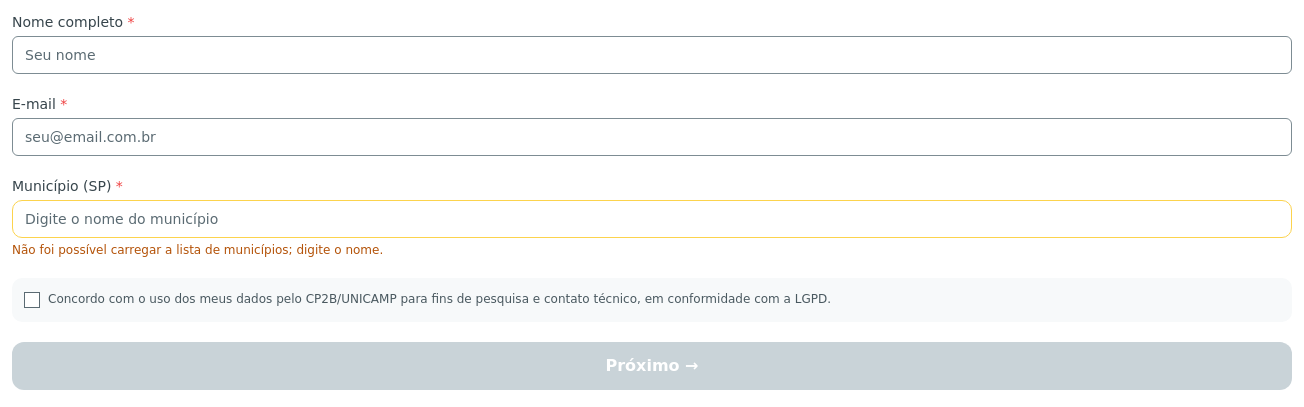
Scenario: StepIdentificacao › accepts a typed name when the municipality list cannot be loaded
Expected: the text "Não foi possível carregar a lista de municípios" is shown, [12,243,383,257]
Type "Ana Souza" into the field labelled "Nome completo *".
click(652, 55); type("Ana Souza")  # box [12,36,1292,74]
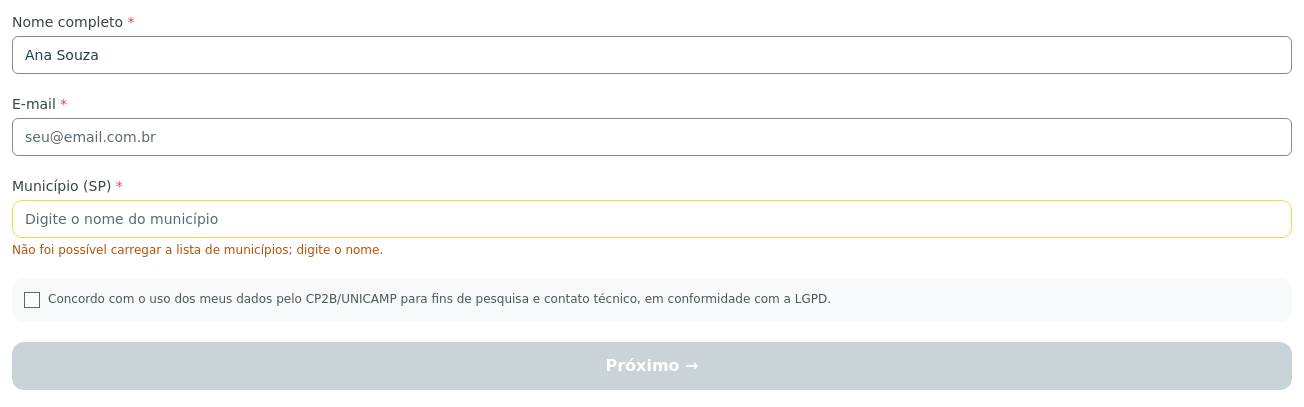
Type "ana@unicamp.br" into the field labelled "E-mail *".
click(652, 137); type("ana@unicamp.br")  # box [12,118,1292,156]
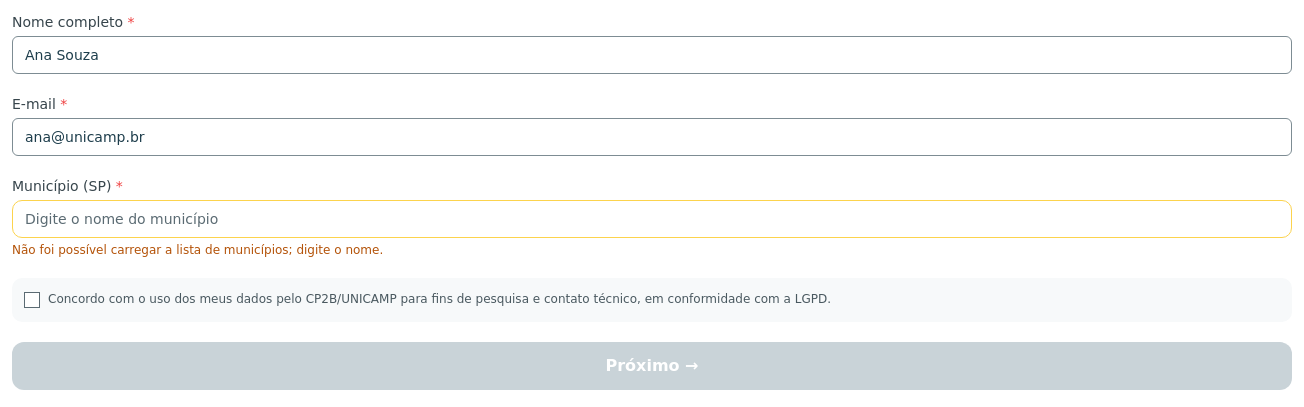
Click the checkbox.
click(32, 300)  # box [24,292,40,308]
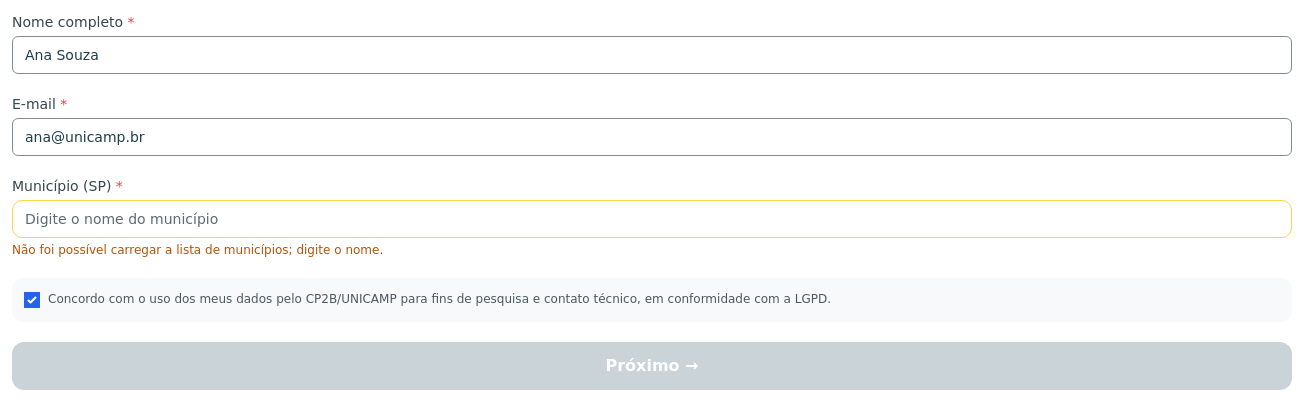
Type "Campinas" into the field labelled "Município (SP) *".
click(652, 219); type("Campinas")  # box [12,200,1292,238]
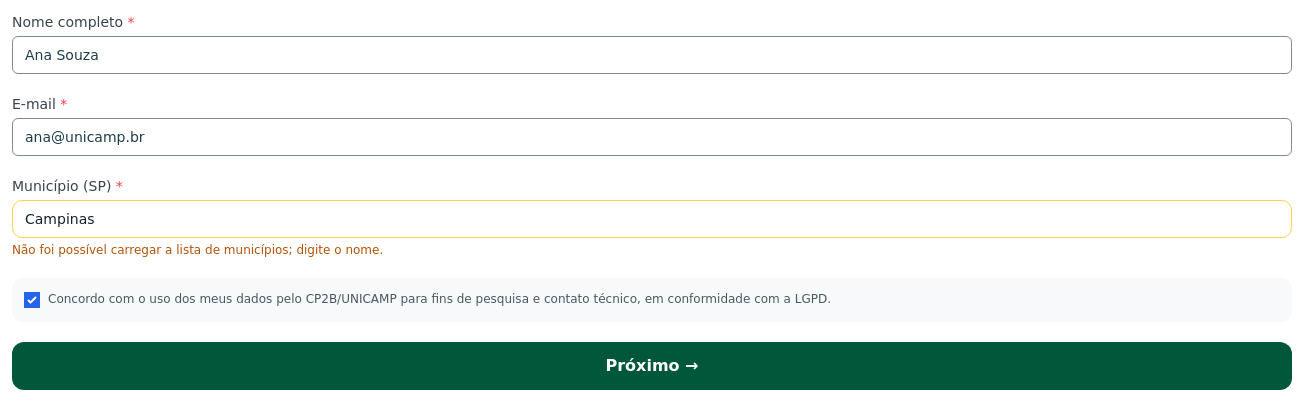
Now the button "Próximo →" is enabled, box [12,342,1292,390]
